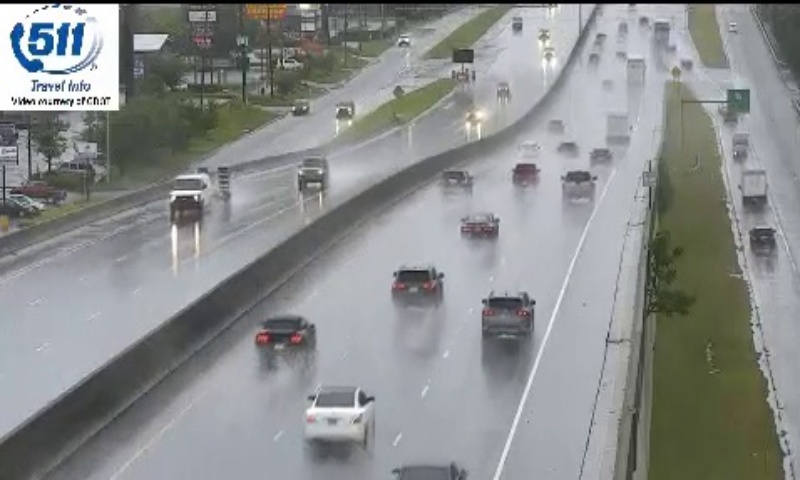car: (304, 386, 373, 441), (256, 316, 316, 360), (482, 291, 533, 337), (391, 264, 443, 304), (460, 211, 498, 241), (562, 169, 594, 201)
